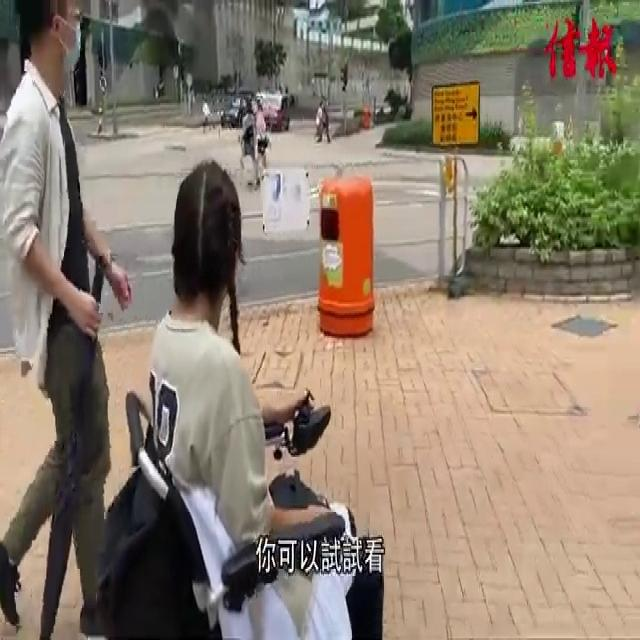wheelchairs: (82, 367, 399, 640)
